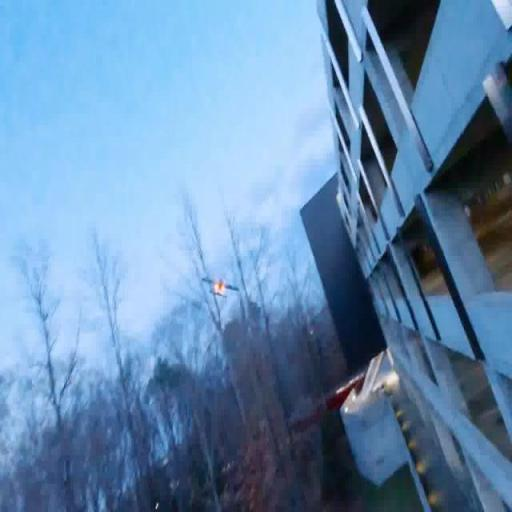uav: (197, 275, 240, 311)
